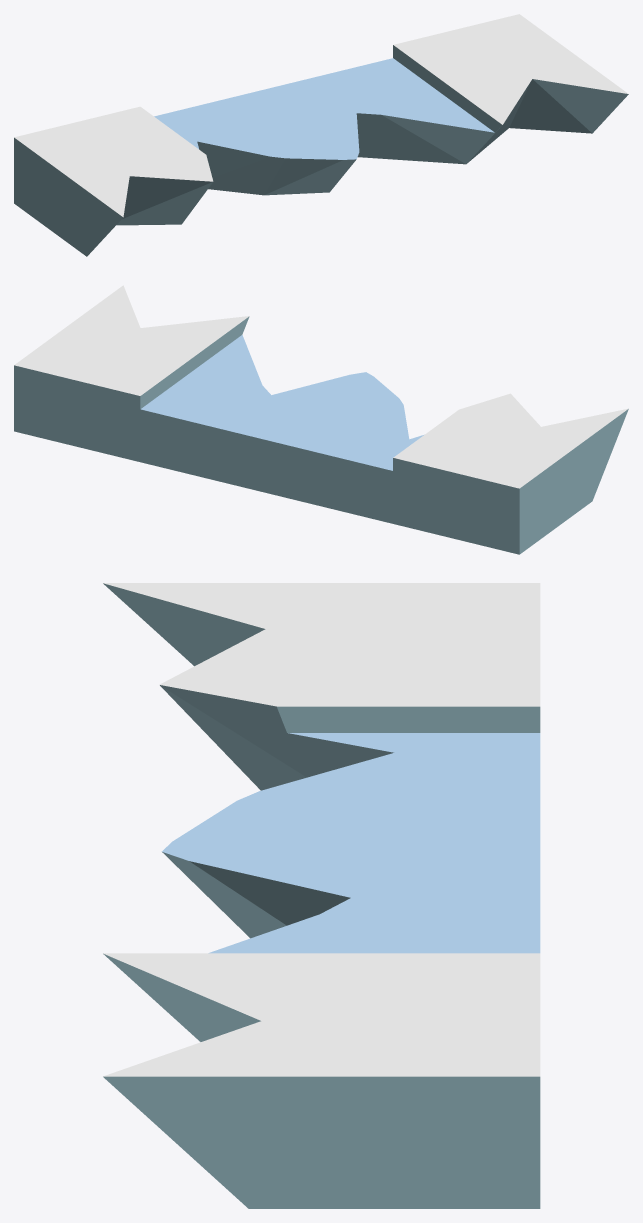
File: Terrain_Tile_Ice_Snow_Ledge_River_02.fbx
The picture shows the model from 3 angles, top to bottom: view 1: azimuth 30°, elevation 25°; view 2: azimuth 150°, elevation 25°; view 3: azimuth 270°, elevation 25°; orthographic projection. The views are drawn at different scales.
Visible parts, largest first — view 1: Terrain_Tile_Ice_Snow_Ledge_River_02; view 2: Terrain_Tile_Ice_Snow_Ledge_River_02; view 3: Terrain_Tile_Ice_Snow_Ledge_River_02.
Part boxes in pixels (<box>): Terrain_Tile_Ice_Snow_Ledge_River_02: <box>14,14,628,256</box>; Terrain_Tile_Ice_Snow_Ledge_River_02: <box>14,285,628,554</box>; Terrain_Tile_Ice_Snow_Ledge_River_02: <box>103,583,540,1208</box>.
Bounding box in the file's own units: 126 × 15.75 × 47.24.
